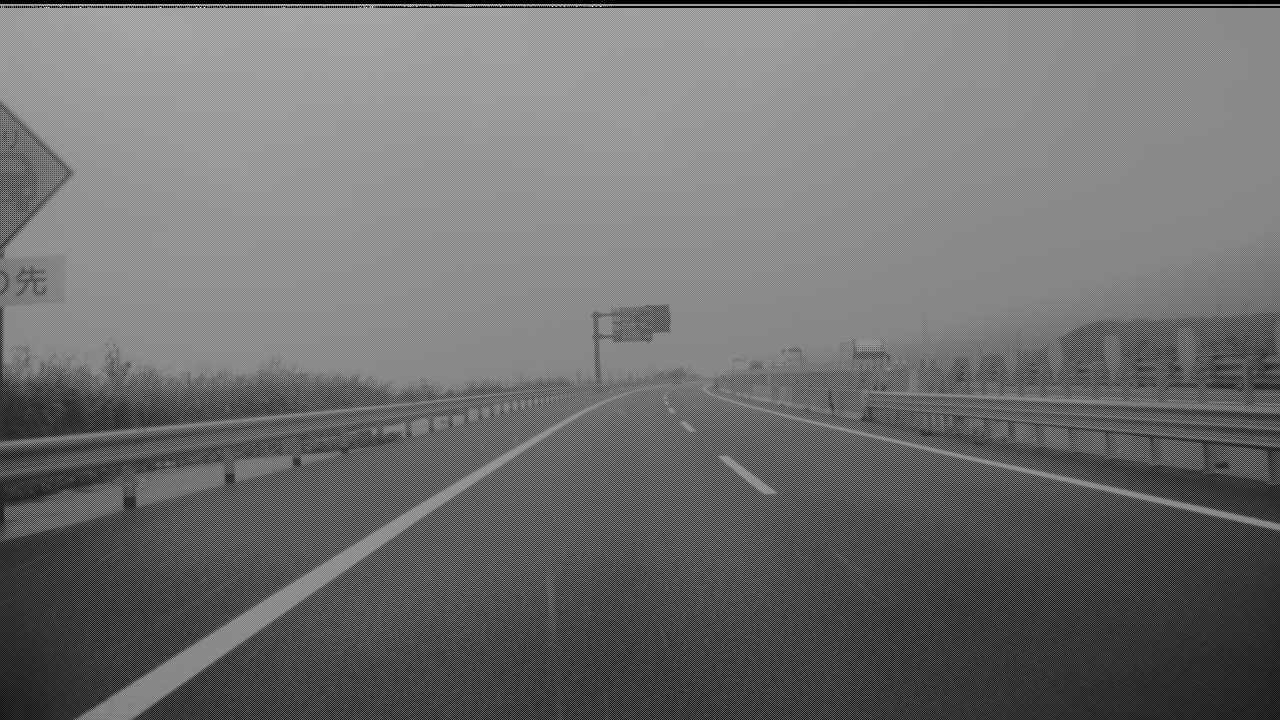pole: (678, 310, 688, 385)
